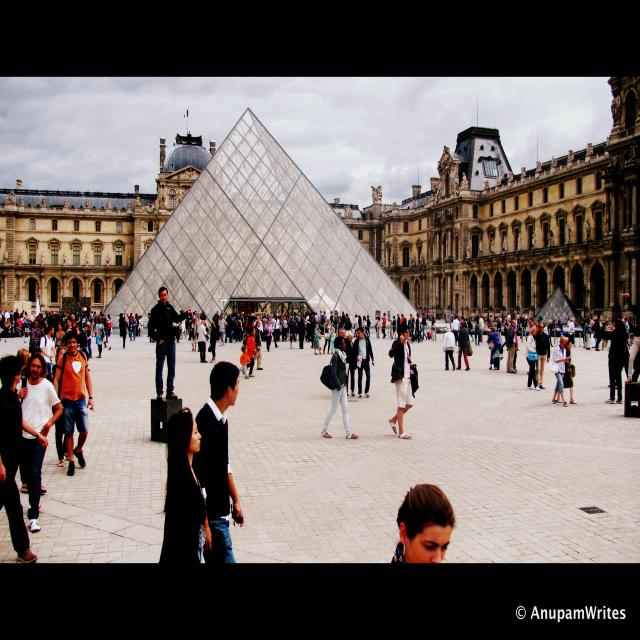body: (0, 87, 639, 270), (159, 406, 207, 640), (190, 361, 244, 564), (15, 353, 63, 533), (0, 354, 38, 564), (390, 488, 456, 564), (150, 287, 192, 401), (15, 352, 47, 494), (320, 337, 359, 439), (388, 323, 415, 440), (602, 318, 622, 405), (621, 293, 640, 383), (547, 336, 569, 407), (354, 327, 375, 398), (556, 340, 578, 404), (607, 318, 624, 389), (534, 323, 550, 389), (38, 325, 57, 377), (526, 326, 540, 391), (241, 328, 259, 377), (345, 332, 357, 396), (456, 320, 470, 371), (442, 325, 456, 371), (488, 328, 503, 370), (252, 320, 264, 370), (506, 320, 517, 373), (34, 309, 82, 321), (79, 323, 90, 371), (198, 320, 210, 363), (245, 310, 299, 319), (237, 345, 251, 379), (94, 316, 104, 358), (29, 321, 41, 355), (253, 315, 264, 349), (209, 321, 217, 363), (270, 315, 280, 348), (54, 323, 66, 350), (322, 318, 331, 354), (218, 315, 228, 347), (310, 316, 320, 348), (194, 313, 202, 352), (543, 319, 554, 347), (264, 320, 273, 352), (298, 317, 307, 349), (501, 318, 510, 350), (122, 316, 130, 349), (212, 311, 220, 344), (602, 318, 610, 351), (224, 314, 233, 343), (86, 321, 93, 358), (3, 317, 15, 338), (0, 307, 8, 338), (628, 316, 636, 347), (314, 324, 322, 354), (488, 341, 496, 370), (584, 318, 591, 350), (594, 314, 600, 351), (172, 322, 182, 344), (101, 317, 108, 348), (452, 315, 459, 346), (420, 313, 428, 340), (528, 320, 537, 344), (64, 319, 77, 335), (466, 316, 474, 342), (513, 330, 518, 371), (191, 318, 197, 352), (130, 314, 137, 342), (329, 327, 336, 355), (235, 316, 242, 344), (346, 316, 352, 348), (496, 318, 504, 342), (289, 317, 295, 348), (126, 312, 133, 338), (581, 318, 587, 348), (300, 311, 318, 321), (520, 318, 528, 340), (415, 314, 421, 343), (282, 314, 288, 342), (416, 314, 422, 342), (486, 319, 493, 343), (568, 318, 574, 346), (180, 319, 188, 339), (94, 311, 100, 337), (274, 316, 280, 342), (14, 318, 22, 337), (22, 319, 30, 338), (381, 313, 387, 338), (408, 314, 413, 344), (474, 320, 480, 345), (479, 314, 484, 342), (365, 315, 371, 338), (362, 316, 368, 338), (375, 316, 381, 338), (396, 313, 401, 339), (134, 313, 139, 338), (238, 316, 243, 341), (353, 314, 358, 338), (431, 316, 436, 340), (82, 304, 94, 314), (107, 314, 112, 337), (514, 317, 520, 336), (410, 314, 414, 342), (623, 317, 630, 333), (137, 316, 142, 338), (13, 308, 20, 323), (240, 311, 245, 332), (147, 312, 151, 338), (119, 313, 123, 338), (90, 313, 94, 337), (392, 316, 396, 340), (590, 316, 596, 332), (233, 313, 236, 343), (140, 315, 144, 337), (73, 321, 79, 335), (400, 313, 407, 325), (555, 320, 563, 330), (461, 316, 467, 329), (321, 315, 325, 334), (338, 318, 343, 333), (82, 314, 87, 328), (339, 328, 346, 338), (535, 316, 546, 322), (5, 309, 10, 322), (506, 312, 522, 316), (245, 320, 254, 327), (22, 311, 28, 321), (104, 314, 109, 326), (329, 311, 334, 323), (345, 313, 351, 323), (292, 315, 297, 327), (40, 326, 46, 336), (450, 312, 456, 322), (599, 319, 601, 349), (444, 310, 448, 324), (148, 336, 156, 343), (358, 315, 362, 328), (201, 310, 206, 320), (342, 312, 346, 324), (524, 313, 528, 325), (9, 310, 14, 319), (100, 308, 104, 319), (323, 310, 327, 320), (552, 320, 556, 330), (320, 310, 323, 323), (335, 312, 341, 318), (575, 317, 578, 328), (20, 310, 24, 318), (123, 312, 127, 320), (28, 318, 33, 324), (178, 309, 184, 314), (489, 314, 494, 320), (567, 317, 570, 327), (588, 313, 593, 318), (194, 311, 198, 317), (86, 314, 89, 322), (418, 309, 422, 314), (474, 312, 477, 318), (11, 319, 14, 325), (43, 321, 49, 324), (518, 317, 520, 326), (509, 317, 511, 325), (82, 314, 84, 321), (217, 316, 220, 320), (500, 316, 502, 322), (434, 311, 436, 316), (544, 323, 546, 328), (530, 316, 535, 318), (192, 310, 194, 314), (536, 323, 538, 327)
